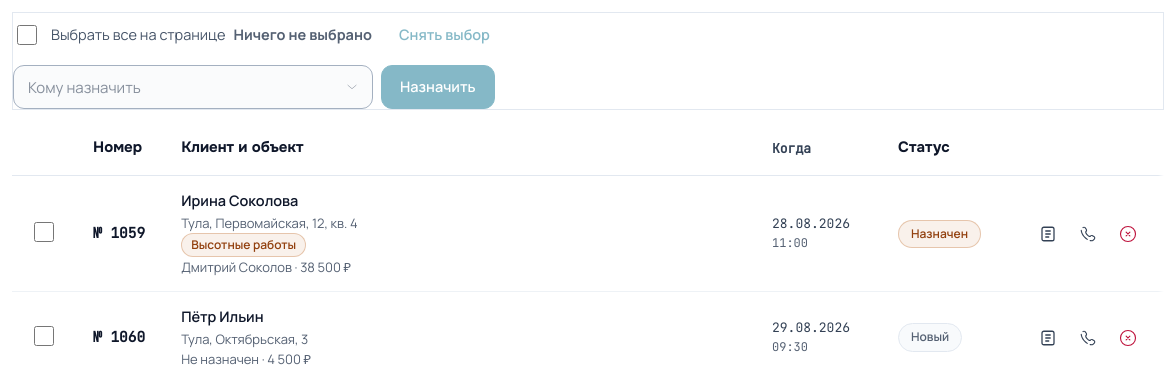
Панель режима выбора нарядов › галочка строки включает режим: счёт называет и выбранное, и всю стопку
Click the checkbox next to "№ 1059".
click(44, 232)  # box [34,222,54,242]
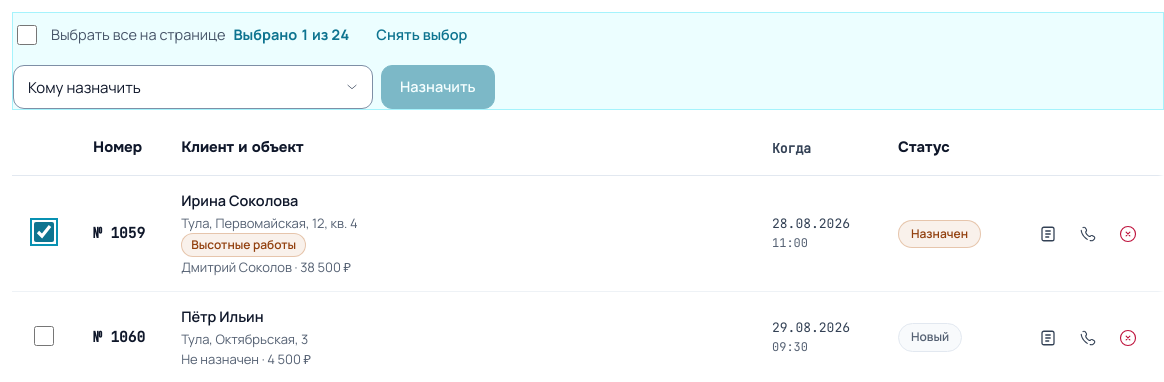
Now the text "Выбрано 1 из 24" is shown, box [234,24,349,46]
